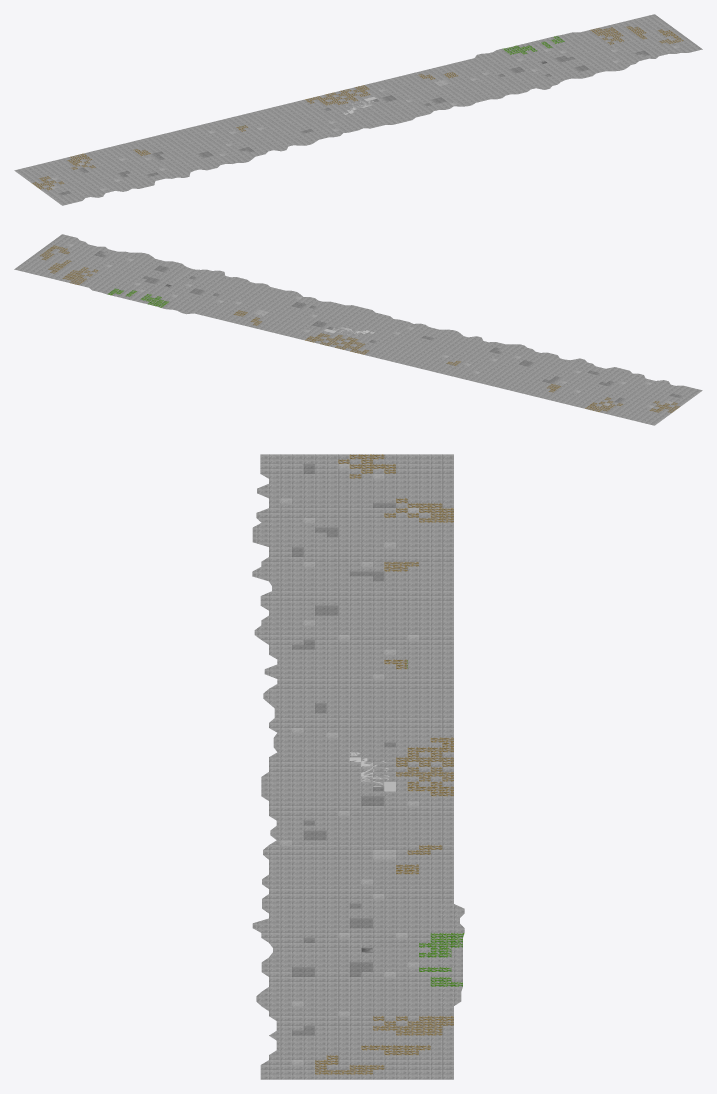
The model's file is WallNear_smooth.obj.
3 renders of one model, top to bottom at view 1: azimuth 30°, elevation 25°; view 2: azimuth 150°, elevation 25°; view 3: azimuth 270°, elevation 25°, orthographic. The views are drawn at different scales.
Visible parts, largest first — view 1: WallNear_smooth; view 2: WallNear_smooth; view 3: WallNear_smooth.
Part boxes in pixels (bbox=[...]): WallNear_smooth: bbox=[14, 14, 702, 205]; WallNear_smooth: bbox=[14, 234, 702, 425]; WallNear_smooth: bbox=[252, 454, 464, 1079].
Size of the model in its own units: 128 by 0.0384 by 18.36.
